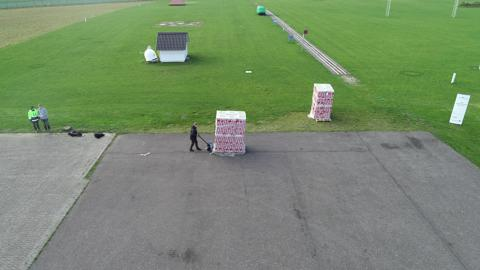RockwoolPallet: (309, 81, 331, 120)
